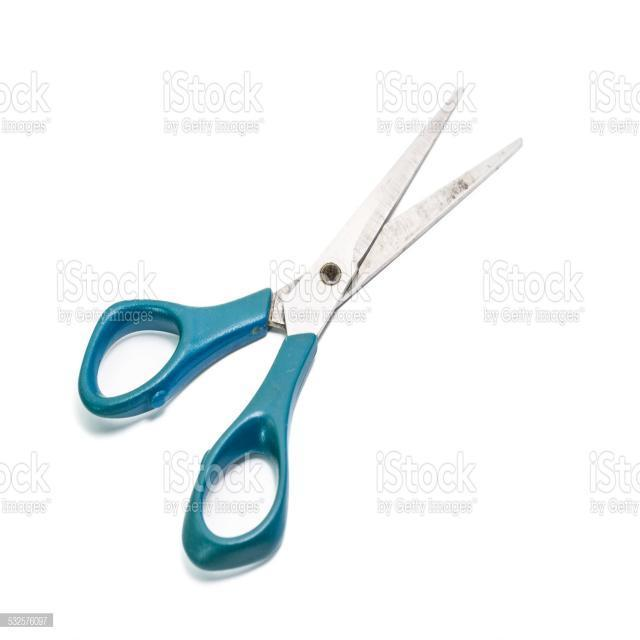scissor: (78, 92, 526, 582)
